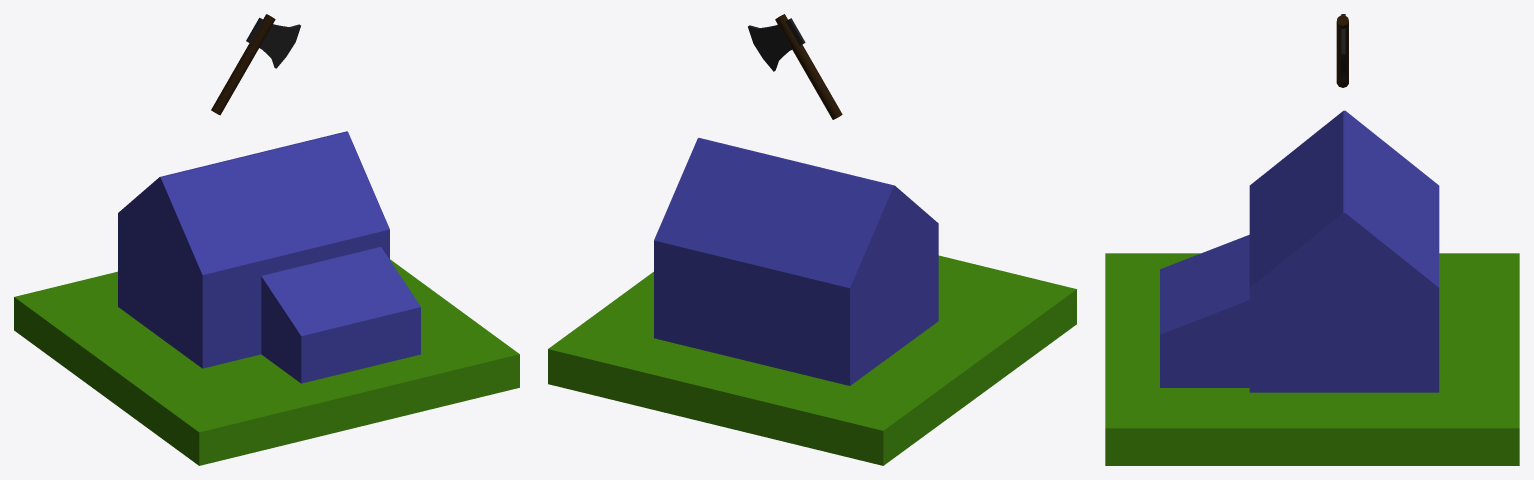
The model's file is Woodworker0.obj.
3 renders of one model, left to right at view 1: azimuth 30°, elevation 25°; view 2: azimuth 150°, elevation 25°; view 3: azimuth 270°, elevation 25°, orthographic. The views are drawn at different scales.
Visible parts, largest first — view 1: Box695, Tilebase107, Box696, Cylinder039; view 2: Box695, Tilebase107, Box696, Cylinder039; view 3: Box695, Tilebase107, Cylinder039.
Part boxes in pixels (bbox=[...]): Box695: bbox=[118, 131, 420, 383]; Tilebase107: bbox=[14, 259, 519, 465]; Box696: bbox=[246, 17, 300, 68]; Cylinder039: bbox=[211, 14, 275, 115]; Box695: bbox=[654, 138, 938, 385]; Tilebase107: bbox=[548, 255, 1076, 465]; Box696: bbox=[748, 18, 805, 71]; Cylinder039: bbox=[775, 14, 842, 119]; Box695: bbox=[1160, 110, 1439, 392]; Tilebase107: bbox=[1105, 253, 1519, 465]; Cylinder039: bbox=[1336, 15, 1348, 87].
Bounding box in the file's own units: 10 × 9.86 × 10.
